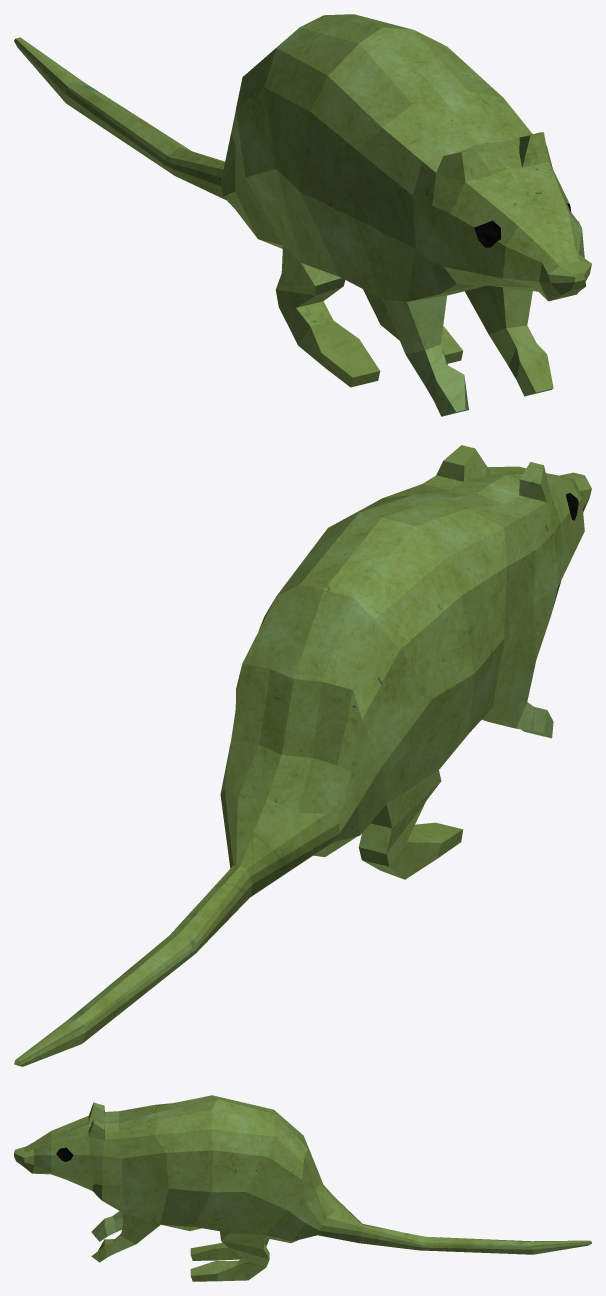
The model's file is OroRata.fbx.
The picture shows the model from 3 angles, top to bottom: view 1: azimuth 30°, elevation 25°; view 2: azimuth 150°, elevation 25°; view 3: azimuth 270°, elevation 25°; orthographic projection. The views are drawn at different scales.
Visible parts, largest first — view 1: Cube; view 2: Cube; view 3: Cube.
Boxes of the visible parts, x1,y1,x2,y2 form: Cube: (14, 14, 591, 416); Cube: (14, 445, 591, 1066); Cube: (14, 1095, 591, 1281).
Size of the model in its own units: 191 by 342 by 1062.
